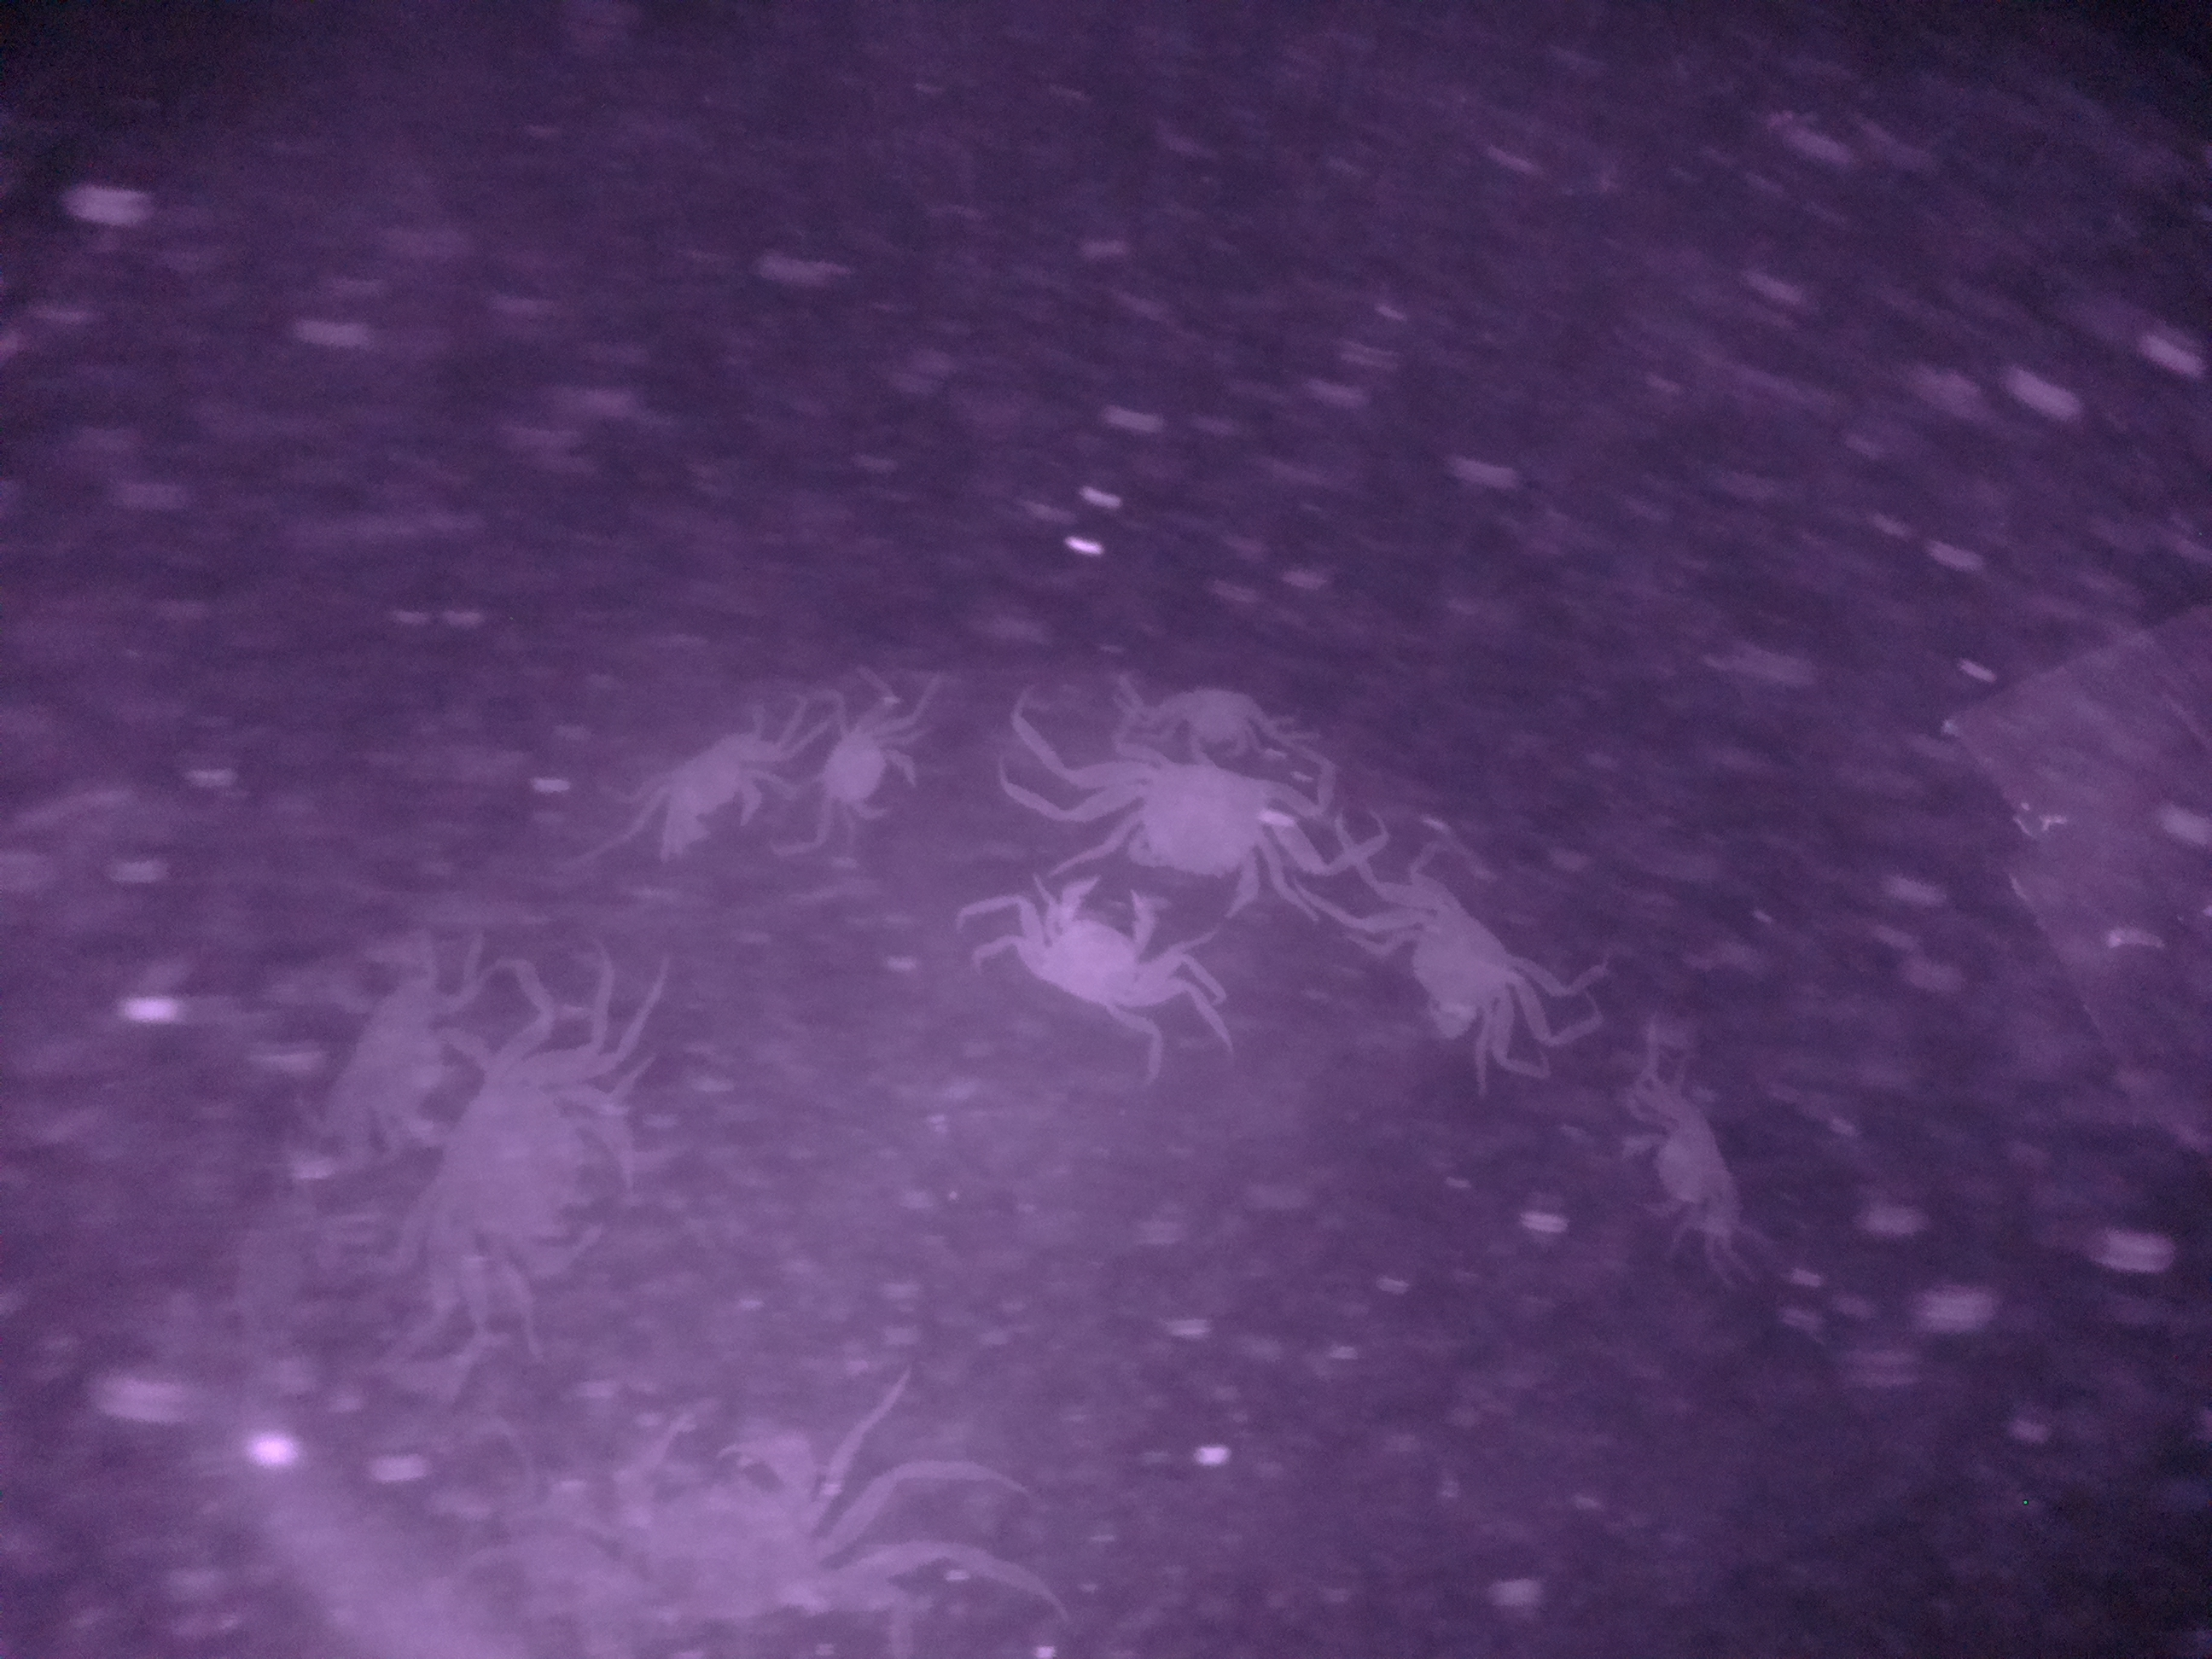Crab: (1094, 732, 1313, 922), (1367, 866, 1541, 1053), (1007, 857, 1195, 1023), (637, 721, 775, 863), (1641, 1084, 1749, 1239), (806, 713, 934, 840)
